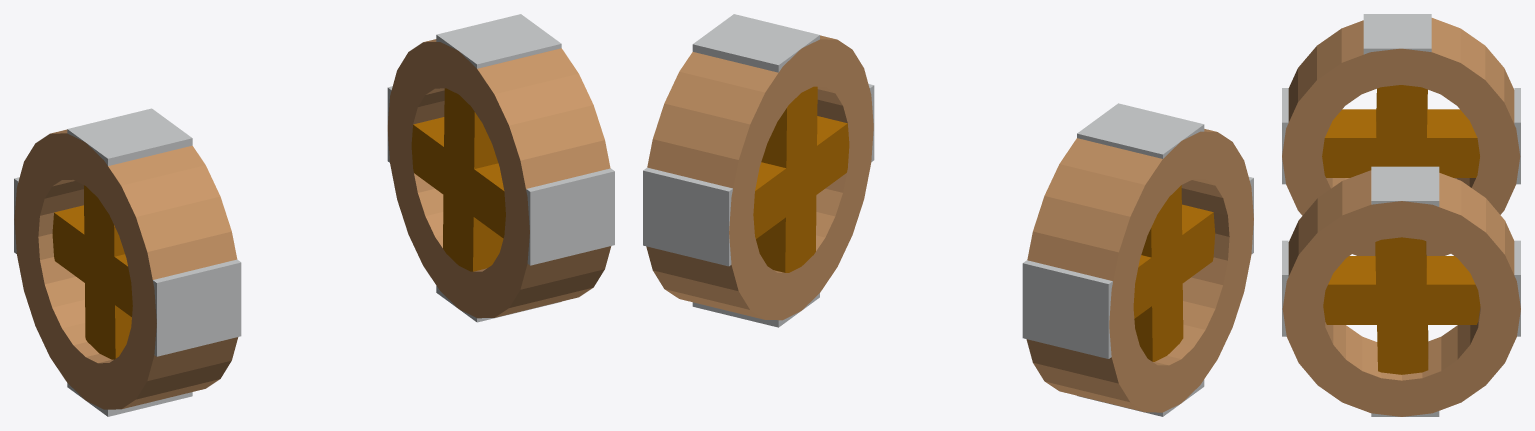
File: POGOvip-2 wheels back.glb
The picture shows the model from 3 angles, left to right: view 1: azimuth 30°, elevation 25°; view 2: azimuth 150°, elevation 25°; view 3: azimuth 270°, elevation 25°; orthographic projection. The views are drawn at different scales.
Visible parts, largest first — view 1: Mesh_Mesh_head_geo.001_lambert2SG.001; view 2: Mesh_Mesh_head_geo.001_lambert2SG.001; view 3: Mesh_Mesh_head_geo.001_lambert2SG.001.
Part boxes in pixels (x1,y1,x2,y2): Mesh_Mesh_head_geo.001_lambert2SG.001: [14, 14, 614, 416]; Mesh_Mesh_head_geo.001_lambert2SG.001: [643, 14, 1253, 416]; Mesh_Mesh_head_geo.001_lambert2SG.001: [1282, 14, 1520, 416].
Size of the model in its own units: 6.5 by 3.5 by 3.51.
